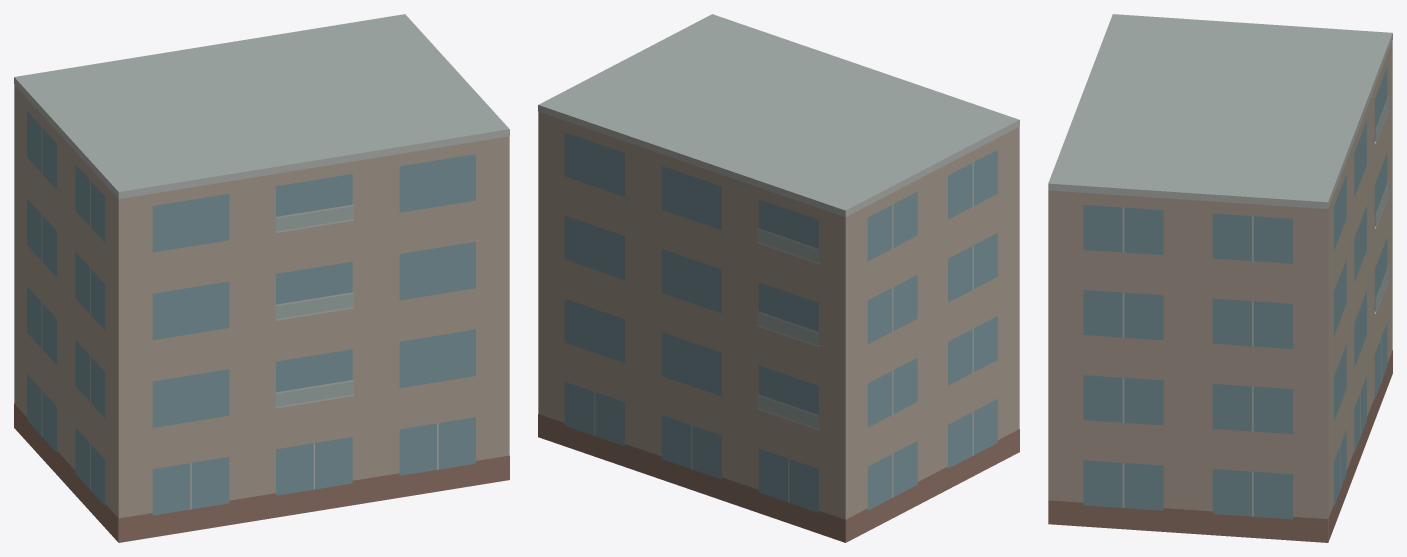
Rendered from survey-upis-33046285.glb.
3 renders of one model, left to right at view 1: azimuth 30°, elevation 25°; view 2: azimuth 150°, elevation 25°; view 3: azimuth 270°, elevation 25°, orthographic. The views are drawn at different scales.
Parts seen in each view (by area): view 1: survey-upis-33046285.tmp; view 2: survey-upis-33046285.tmp; view 3: survey-upis-33046285.tmp.
Boxes of the visible parts, x1=… form: survey-upis-33046285.tmp: x1=14, y1=14, x2=509, y2=542; survey-upis-33046285.tmp: x1=538, y1=14, x2=1019, y2=542; survey-upis-33046285.tmp: x1=1048, y1=14, x2=1392, y2=542.
Size of the model in its own units: 14.36 by 12.1 by 11.11.
